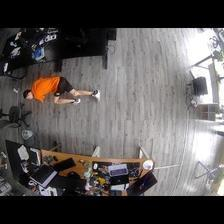fall: (24, 75, 101, 106)
